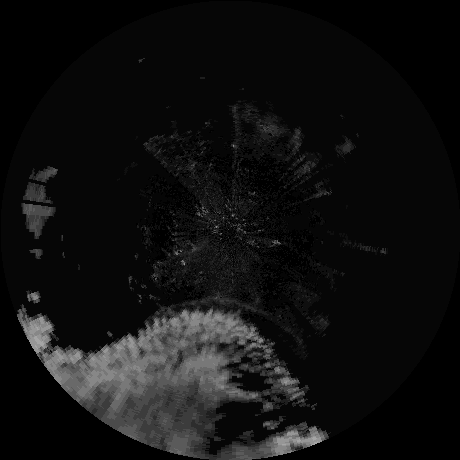frontgust: (164, 293, 288, 325)
